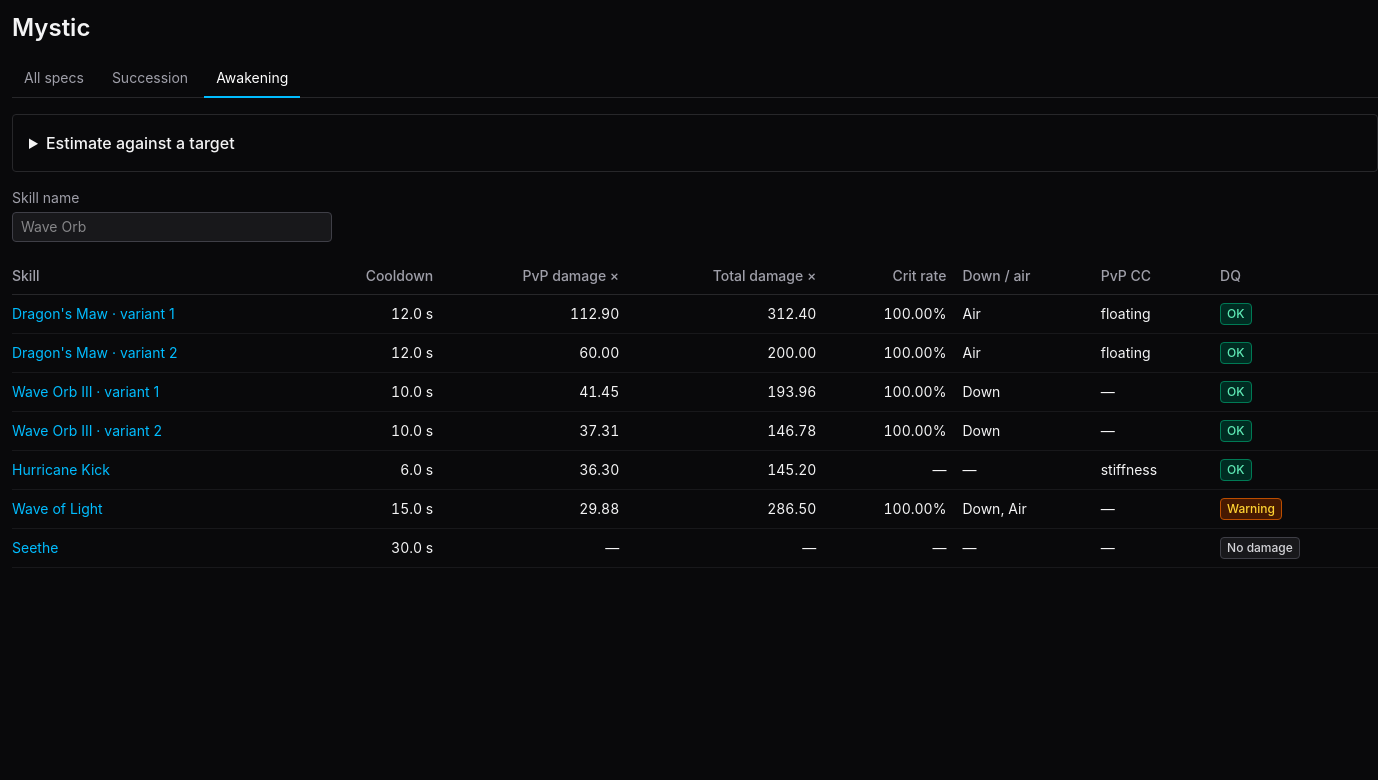
ClassSkillsPage › goes back to all specs from a spec tab
Click the link "All specs".
click(54, 78)  # box [24,69,84,86]
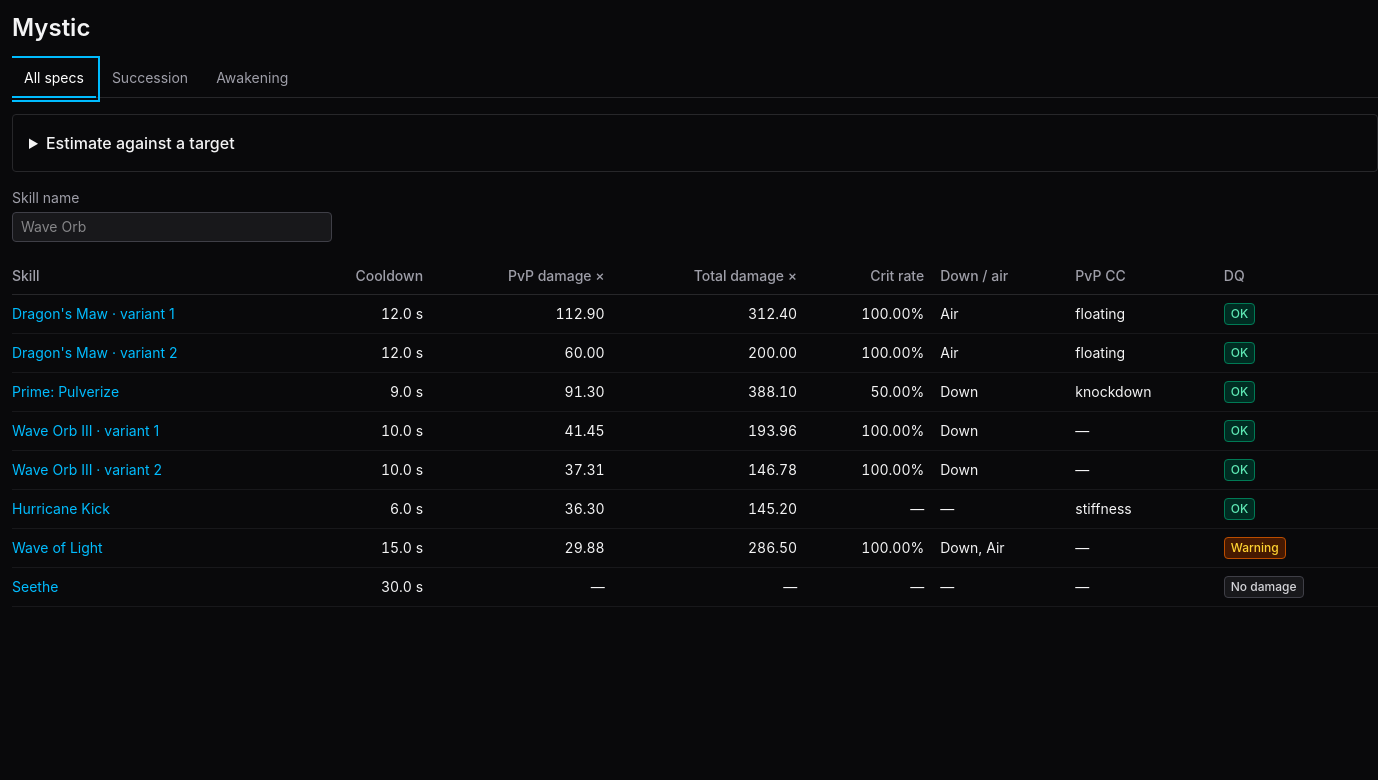
Check: the link "Prime: Pulverize" is shown, box [12,383,119,400]
